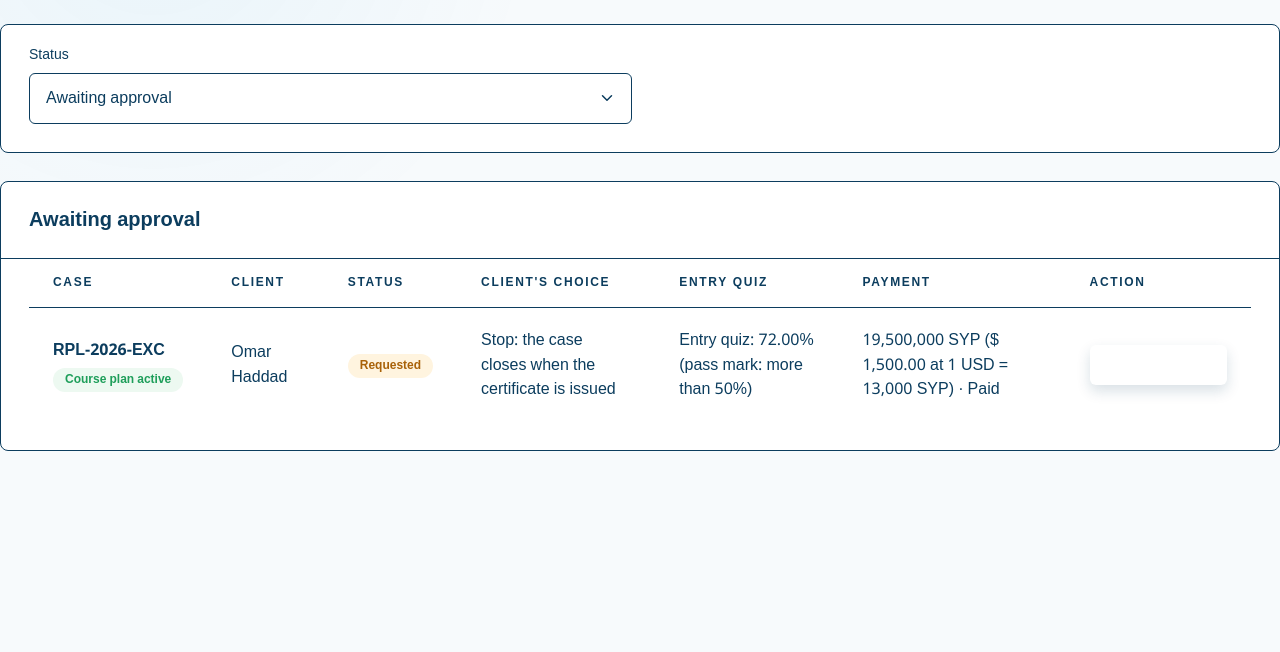
Test case: the experience certificates queue (S7) › keeps the approval sentence on the page after the approved row leaves the list (en)
This screenshot has width=1280, height=652.
Click the button "Review and approve" at (1158, 365), box top-left (1090, 345), bottom-right (1227, 385)
(page scrolled)
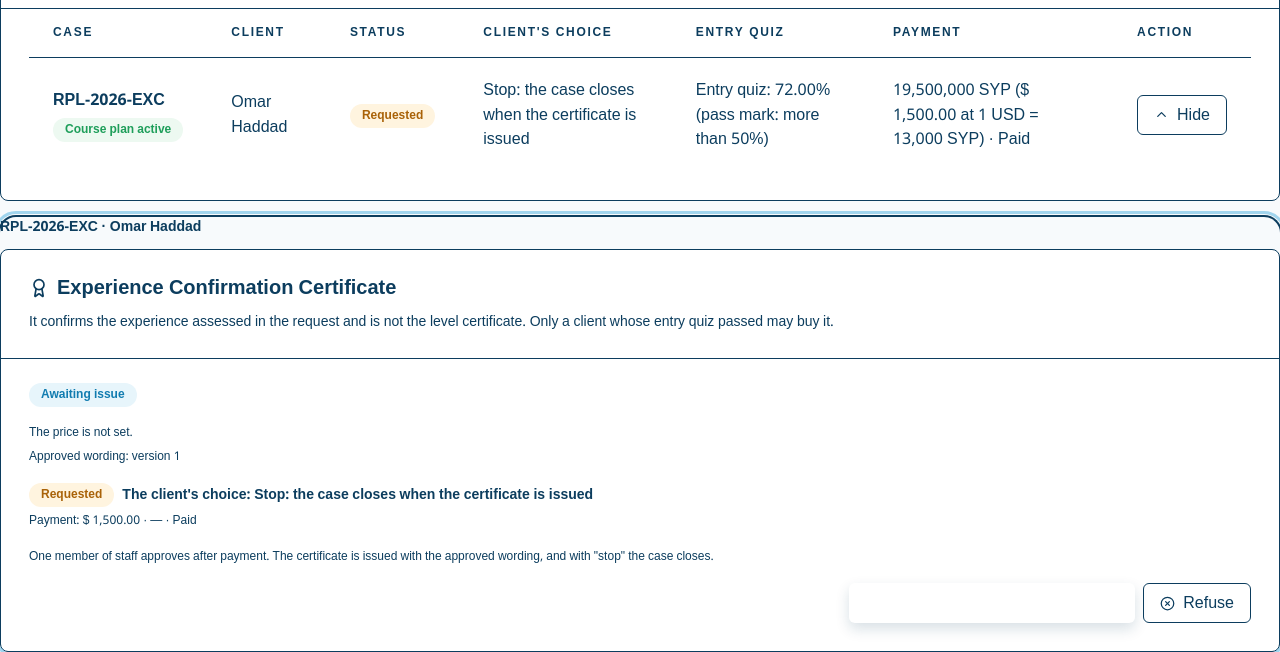
Click the button "Approve and issue the certificate" at (992, 603), box top-left (849, 583), bottom-right (1135, 623)
(page scrolled)
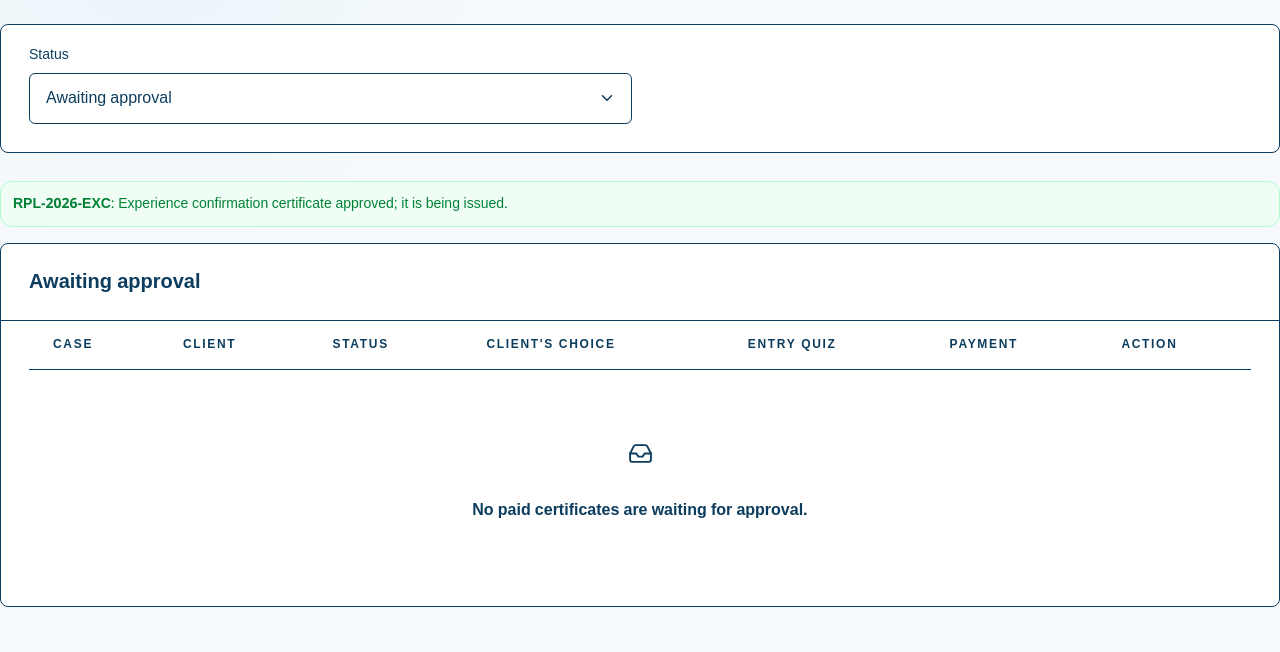
Expected: the text "RPL-2026-EXC" is shown, top-left (13, 189), bottom-right (111, 218)
Now the heading "No paid certificates are waiting for approval." is shown, box top-left (472, 498), bottom-right (808, 522)
Now the message shows "Experience confirmation certificate approved; it is being issued.", box top-left (118, 189), bottom-right (508, 218)
